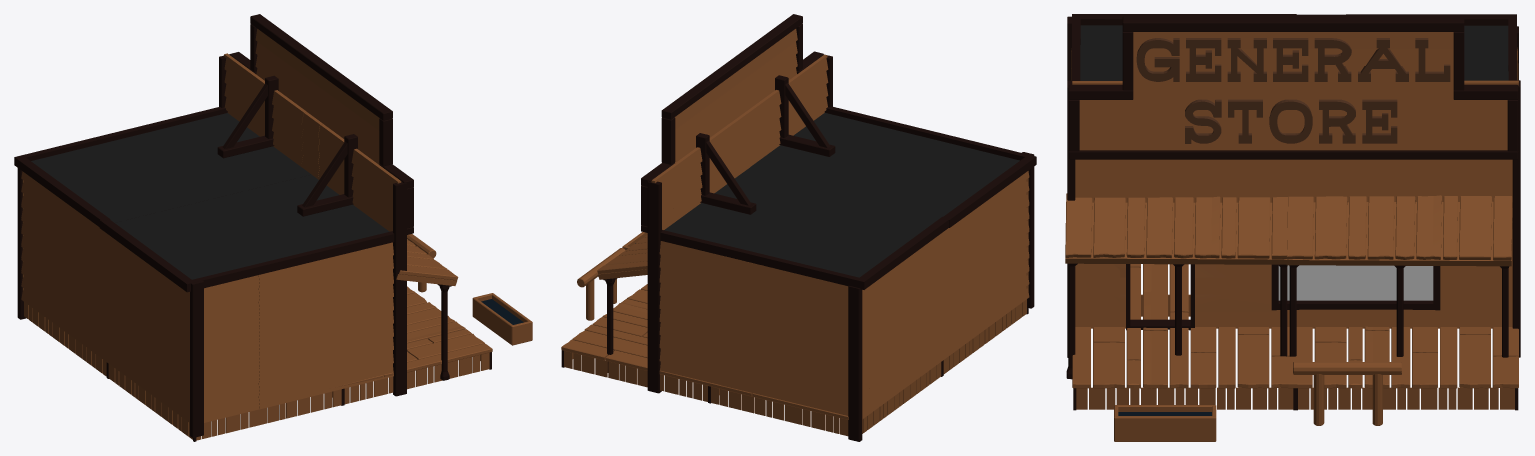
File: general_store.obj
3 renders of one model, left to right at view 1: azimuth 30°, elevation 25°; view 2: azimuth 150°, elevation 25°; view 3: azimuth 270°, elevation 25°, orthographic. The views are drawn at different scales.
Parts seen in each view (by area): view 1: Wall_A.103; view 2: Wall_A.103; view 3: Wall_A.103.
Part boxes in pixels (bbox=[...]): Wall_A.103: bbox=[14, 14, 532, 441]; Wall_A.103: bbox=[561, 14, 1036, 441]; Wall_A.103: bbox=[1065, 14, 1520, 441].
Bounding box in the file's own units: 7.88 × 5.52 × 6.68.
